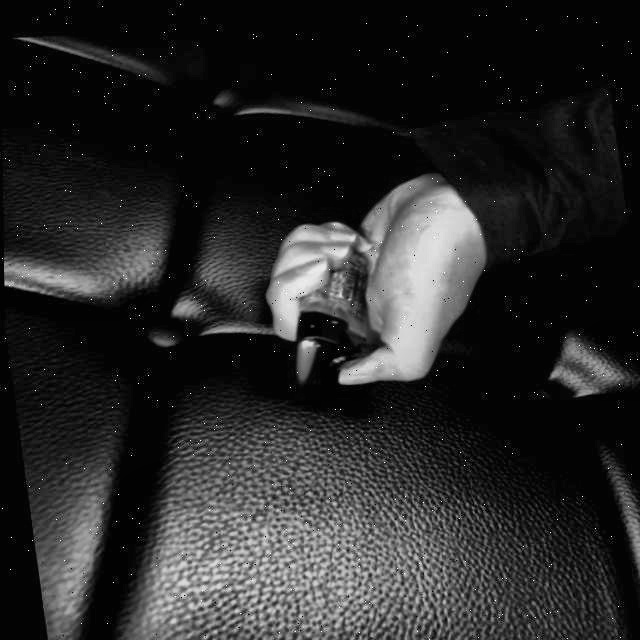Fire: (285, 329, 324, 390)
